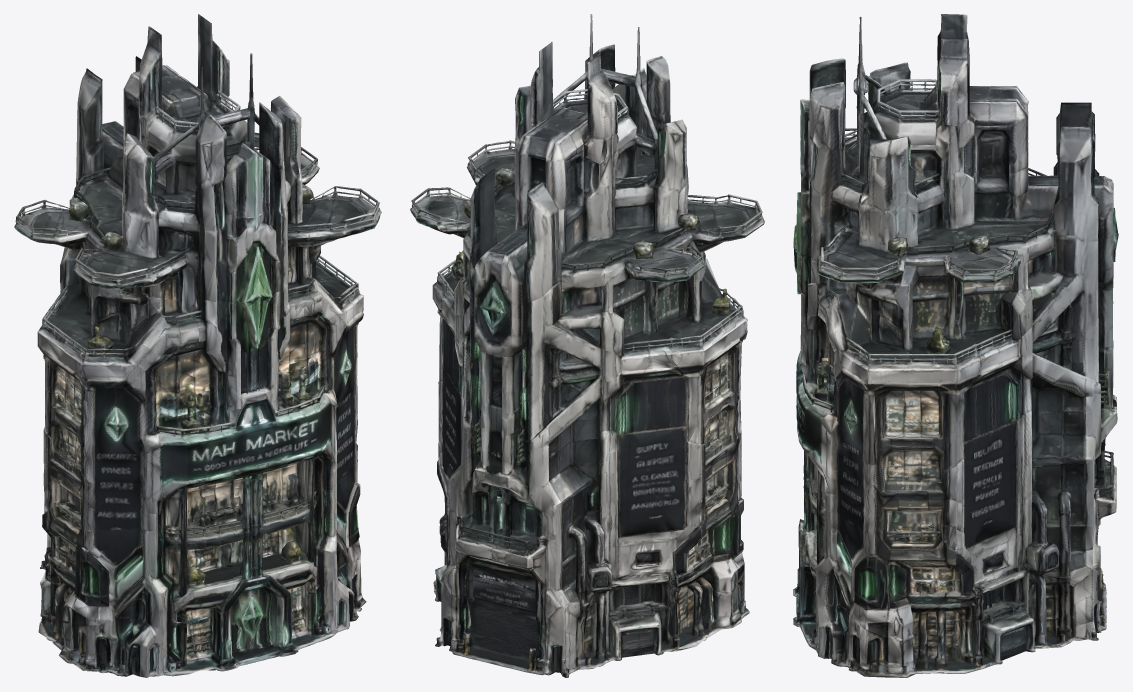
File: MARKET_M5C_L1.glb
3 views of the same model, side by side, from view 1: azimuth 30°, elevation 25°; view 2: azimuth 150°, elevation 25°; view 3: azimuth 270°, elevation 25° (orthographic). The views are drawn at different scales.
Parts seen in each view (by area): view 1: MARKET_M5C_L1; view 2: MARKET_M5C_L1; view 3: MARKET_M5C_L1.
Boxes of the visible parts, x1,y1,x2,y2 form: MARKET_M5C_L1: [14, 14, 381, 677]; MARKET_M5C_L1: [410, 14, 764, 677]; MARKET_M5C_L1: [793, 14, 1118, 677].
Bounding box in the file's own units: 0.5152 × 0.9827 × 0.498.
Materials: 1 (1 with a texture image).
